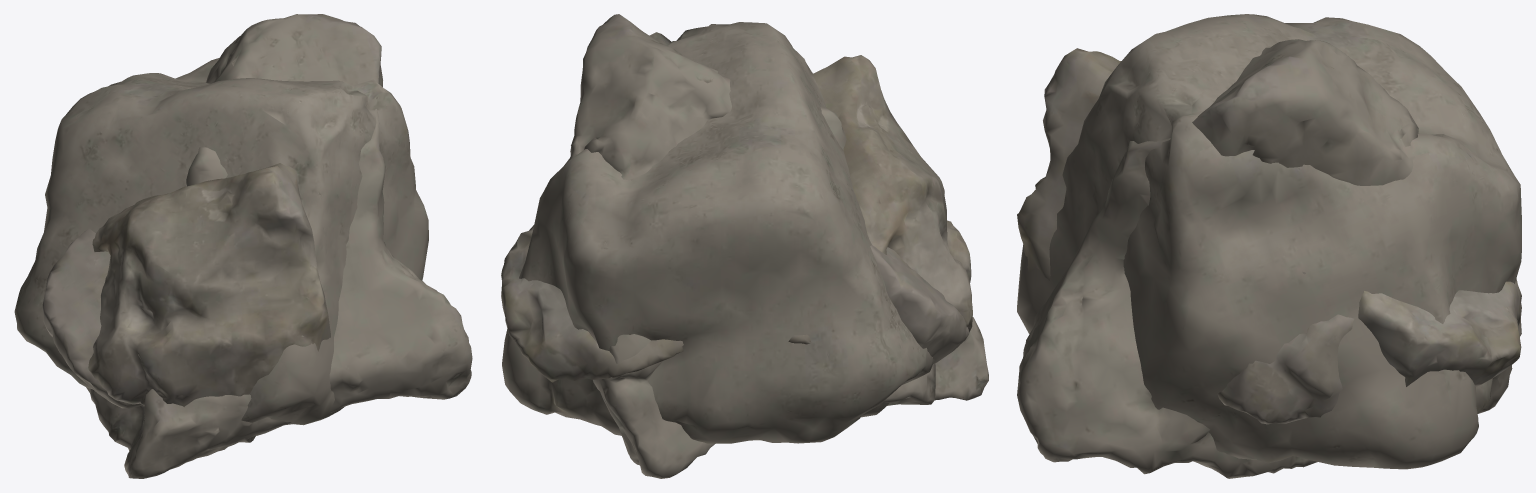
The model's file is rocks.glb.
3 renders of one model, left to right at view 1: azimuth 30°, elevation 25°; view 2: azimuth 150°, elevation 25°; view 3: azimuth 270°, elevation 25°, orthographic. The views are drawn at different scales.
Parts seen in each view (by area): view 1: Rock_02, Rock_06, Rock_05, Rock_07; view 2: Rock_02, Rock_05, Rock_06, Rock_07; view 3: Rock_02, Rock_05, Rock_06, Rock_07.
Part boxes in pixels (<box>): Rock_02: <box>14,57,428,425</box>; Rock_06: <box>88,163,330,406</box>; Rock_05: <box>89,14,472,478</box>; Rock_07: <box>42,228,144,408</box>; Rock_02: <box>502,22,934,443</box>; Rock_05: <box>570,14,988,478</box>; Rock_06: <box>501,55,972,382</box>; Rock_07: <box>870,245,969,364</box>; Rock_02: <box>1017,14,1521,469</box>; Rock_05: <box>1017,39,1521,478</box>; Rock_06: <box>1017,48,1521,386</box>; Rock_07: <box>1217,271,1354,424</box>.
Size of the model in its own units: 2 by 1.81 by 2.
Materials: 4 (4 with a texture image).
